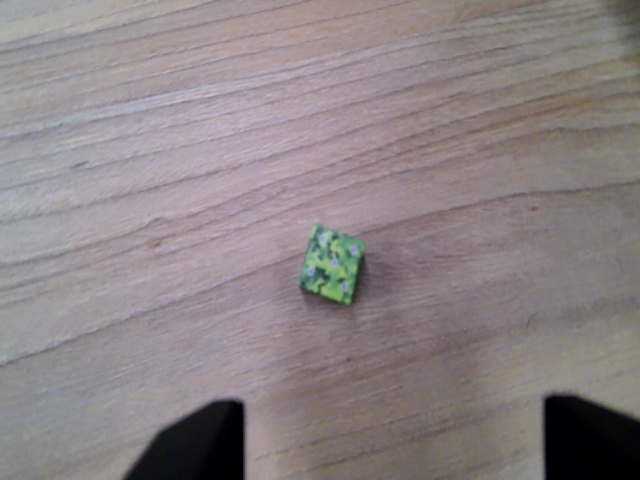grass: (295, 221, 368, 308)
